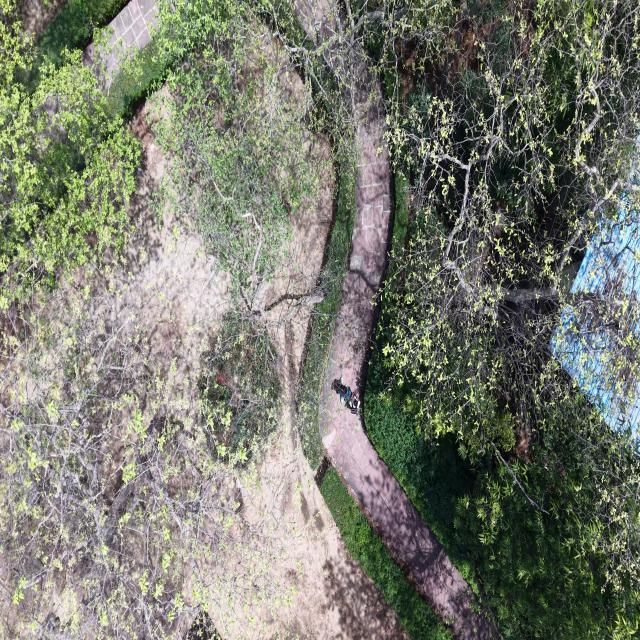DRY_AREA: (320, 79, 491, 639), (320, 78, 490, 639), (320, 118, 489, 639), (47, 87, 232, 446), (28, 105, 228, 414), (51, 94, 231, 424), (207, 408, 409, 639), (210, 411, 409, 639), (321, 385, 490, 639), (94, 95, 231, 407), (242, 411, 410, 639), (242, 419, 408, 639), (128, 91, 230, 380), (129, 86, 237, 339), (128, 91, 229, 351), (324, 525, 410, 639), (83, 0, 158, 90), (257, 213, 322, 315), (110, 0, 157, 49), (110, 0, 156, 50), (18, 0, 65, 39)
ROOFTOP_BUILDING: (551, 200, 639, 436)
VEGETATION_TREE: (0, 0, 639, 638), (288, 3, 637, 637), (0, 2, 326, 637), (0, 2, 321, 637), (0, 2, 314, 637), (358, 2, 639, 637), (0, 3, 242, 637), (386, 3, 639, 449), (0, 262, 269, 637), (152, 2, 354, 467), (366, 365, 636, 637), (155, 2, 339, 335), (156, 3, 318, 311), (0, 2, 139, 309), (365, 354, 477, 591), (320, 467, 452, 639), (296, 160, 355, 468), (199, 312, 281, 461), (18, 0, 126, 91), (36, 0, 126, 67), (109, 40, 172, 117), (187, 614, 219, 639)
